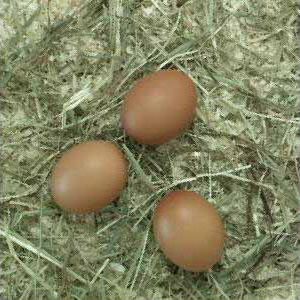egg: (152, 190, 226, 273), (50, 139, 128, 213), (122, 70, 196, 146)
